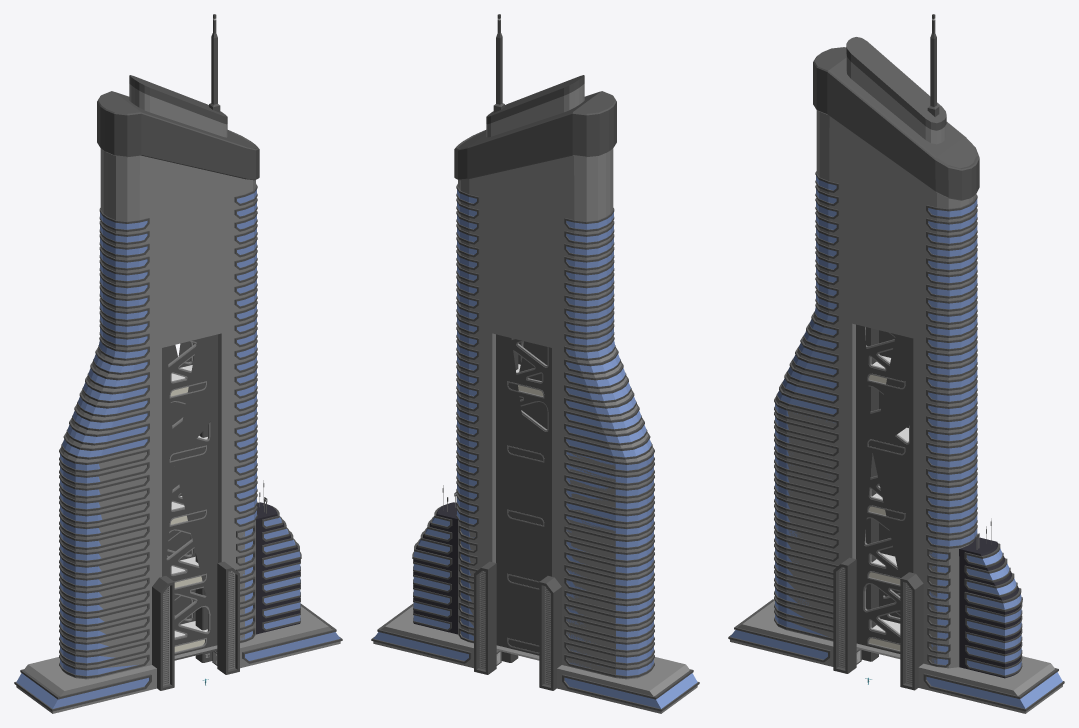
File: office.fbx
The picture shows the model from 3 angles, left to right: view 1: azimuth 30°, elevation 25°; view 2: azimuth 150°, elevation 25°; view 3: azimuth 330°, elevation 25°; orthographic projection. The views are drawn at different scales.
Visible parts, largest first — view 1: Cube.002, Cube.004, glass_1.001, Cube.008, glass_1, Cube, out_line_primary.005, out_line_primary.002, out_line_primary.001, out_line_primary.003, out_line_primary.006, out_line_primary.004 (+15 smaller); view 2: Cube.002, Cube.004, glass_1.001, glass_1, Cube.008, Cube, out_line_primary.005, out_line_primary.002, out_line_primary.001, out_line_primary.003, out_line_primary.006, out_line_primary.004 (+13 smaller); view 3: Cube.002, Cube.004, out_line_primary.005, out_line_primary.006, glass_1.001, Cube.008, Cube.010, Cube, Cube.011, out_line_primary.001, Cube.060, out_line_primary.002 (+15 smaller).
Part boxes in pixels (x1=…): Cube.002: x1=60, y1=91, x2=259, y2=679; Cube.004: x1=162, y1=334, x2=217, y2=655; glass_1.001: x1=59, y1=447, x2=149, y2=678; Cube.008: x1=152, y1=561, x2=239, y2=690; glass_1: x1=60, y1=454, x2=138, y2=675; Cube: x1=16, y1=606, x2=340, y2=713; out_line_primary.005: x1=234, y1=184, x2=257, y2=526; out_line_primary.002: x1=62, y1=340, x2=147, y2=457; out_line_primary.001: x1=61, y1=336, x2=149, y2=459; out_line_primary.003: x1=99, y1=208, x2=149, y2=347; out_line_primary.006: x1=237, y1=189, x2=256, y2=524; out_line_primary.004: x1=100, y1=212, x2=147, y2=345; Cube.002: x1=454, y1=91, x2=653, y2=679; Cube.004: x1=496, y1=334, x2=551, y2=655; glass_1.001: x1=564, y1=447, x2=654, y2=678; glass_1: x1=566, y1=452, x2=653, y2=675; Cube.008: x1=474, y1=561, x2=561, y2=690; Cube: x1=373, y1=606, x2=697, y2=713; out_line_primary.005: x1=456, y1=184, x2=479, y2=526; out_line_primary.002: x1=566, y1=340, x2=651, y2=457; out_line_primary.001: x1=564, y1=336, x2=652, y2=459; out_line_primary.003: x1=564, y1=208, x2=614, y2=347; out_line_primary.006: x1=457, y1=189, x2=476, y2=524; out_line_primary.004: x1=566, y1=212, x2=613, y2=345; Cube.002: x1=775, y1=47, x2=979, y2=668; Cube.004: x1=856, y1=324, x2=913, y2=653; out_line_primary.005: x1=926, y1=194, x2=977, y2=548; out_line_primary.006: x1=928, y1=199, x2=977, y2=546; glass_1.001: x1=774, y1=396, x2=838, y2=640; Cube.008: x1=833, y1=557, x2=923, y2=690; Cube.010: x1=846, y1=37, x2=946, y2=144; Cube: x1=730, y1=600, x2=1062, y2=713; Cube.011: x1=959, y1=537, x2=1021, y2=678; out_line_primary.001: x1=776, y1=303, x2=838, y2=416; Cube.060: x1=730, y1=630, x2=1062, y2=708; out_line_primary.002: x1=777, y1=307, x2=836, y2=414.
Size of the model in its own units: 8044 by 17007 by 2375.
